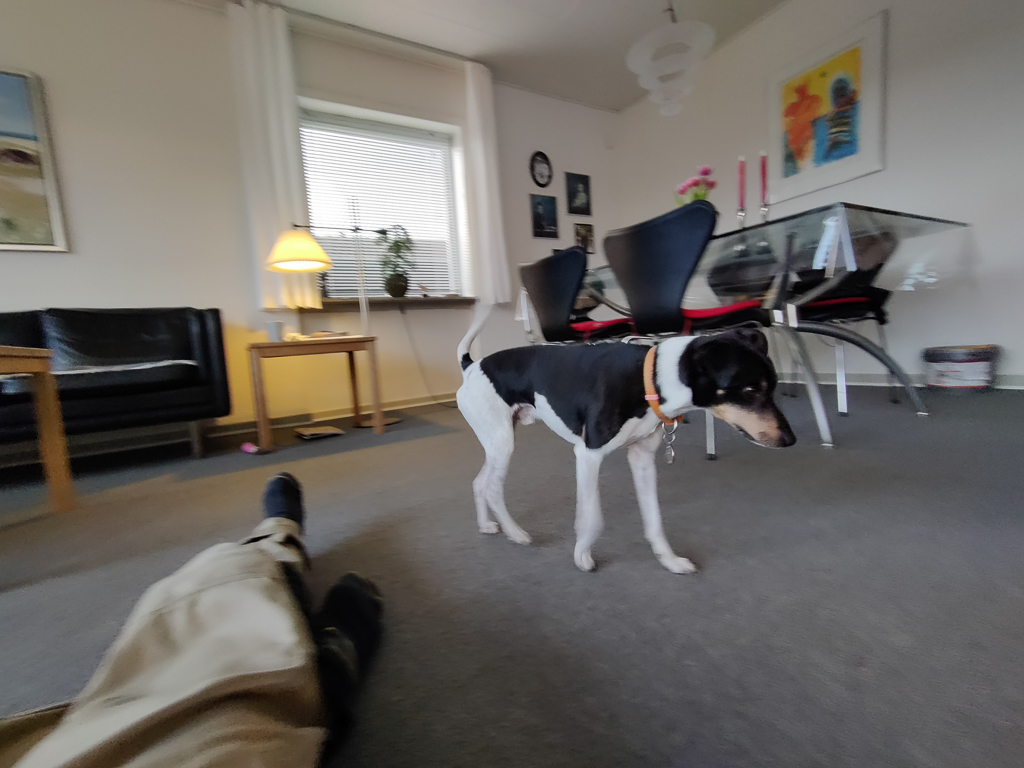Dog: (431, 274, 821, 597)
Humanoid: (0, 462, 423, 768)
